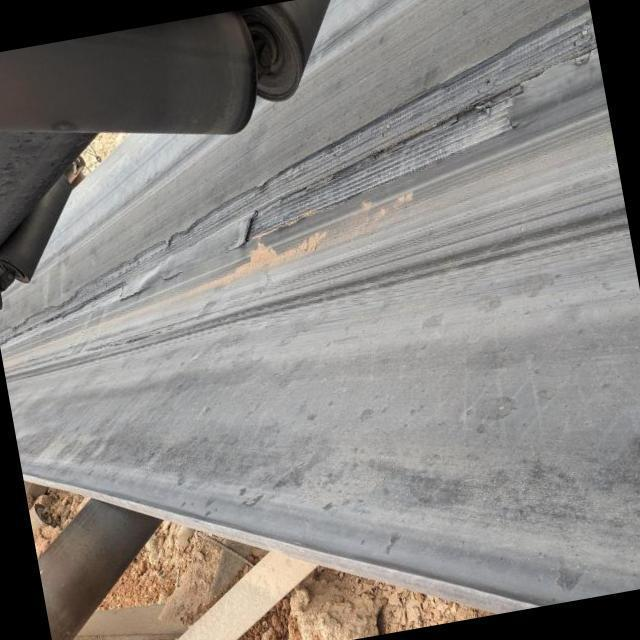Tear: (0, 4, 594, 350)
